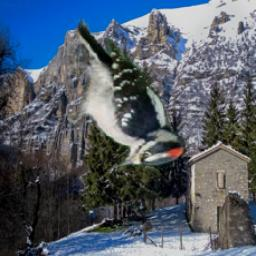Woodpecker: (67, 18, 188, 171)
